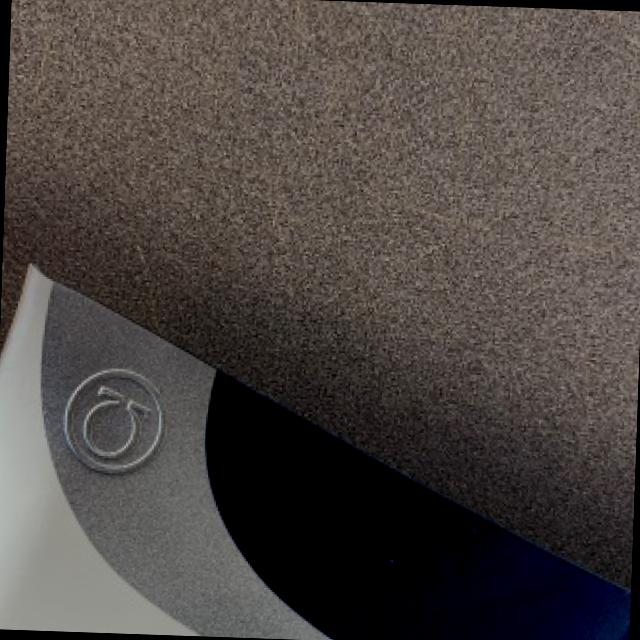healthy: (0, 265, 627, 640)
